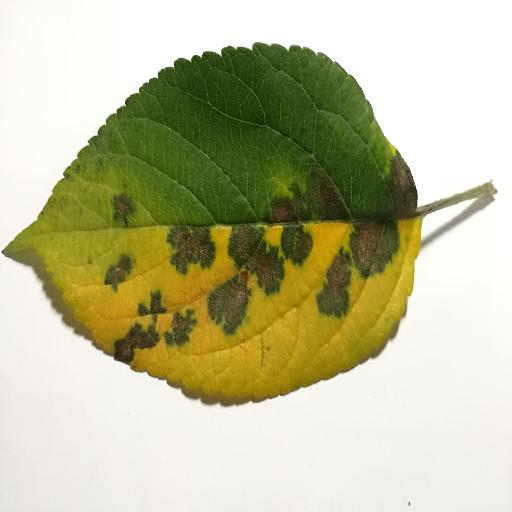Brown_Spot: (83, 167, 429, 345)
